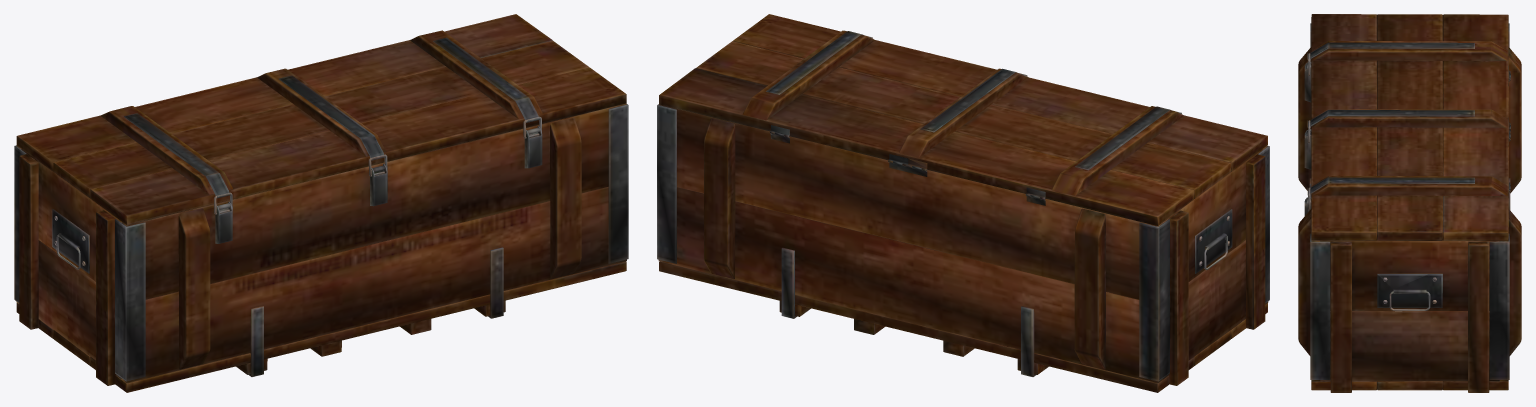
File: crate_wood_large.glb
3 renders of one model, left to right at view 1: azimuth 30°, elevation 25°; view 2: azimuth 150°, elevation 25°; view 3: azimuth 270°, elevation 25°, orthographic. The views are drawn at different scales.
Visible parts, largest first — view 1: crate_wood_large; view 2: crate_wood_large; view 3: crate_wood_large.
Part boxes in pixels (box(x1,y1,x2,y2)): crate_wood_large: box(14, 14, 628, 392); crate_wood_large: box(657, 14, 1269, 392); crate_wood_large: box(1298, 14, 1521, 392).
Size of the model in its own units: 1.24 by 0.4639 by 0.5198.
Materials: 1 (1 with a texture image).
